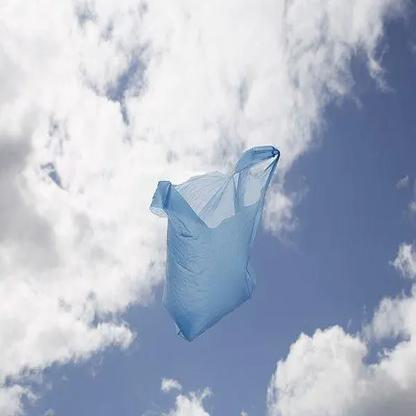plastic bag: (150, 145, 279, 341)
